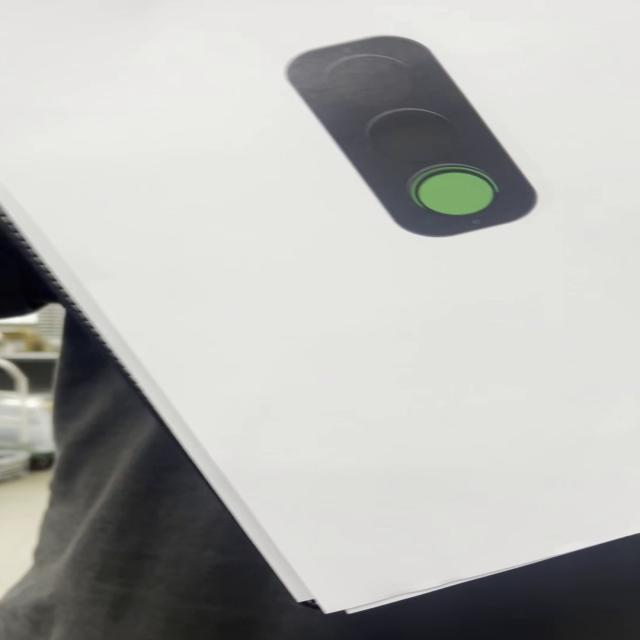green: (284, 35, 542, 238)
